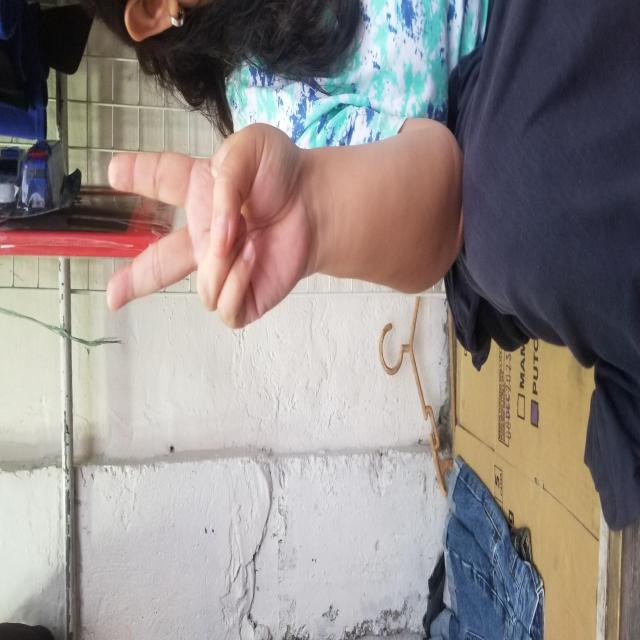V: (309, 105, 517, 310)
